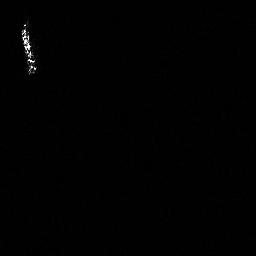ship: (17, 18, 42, 78)
